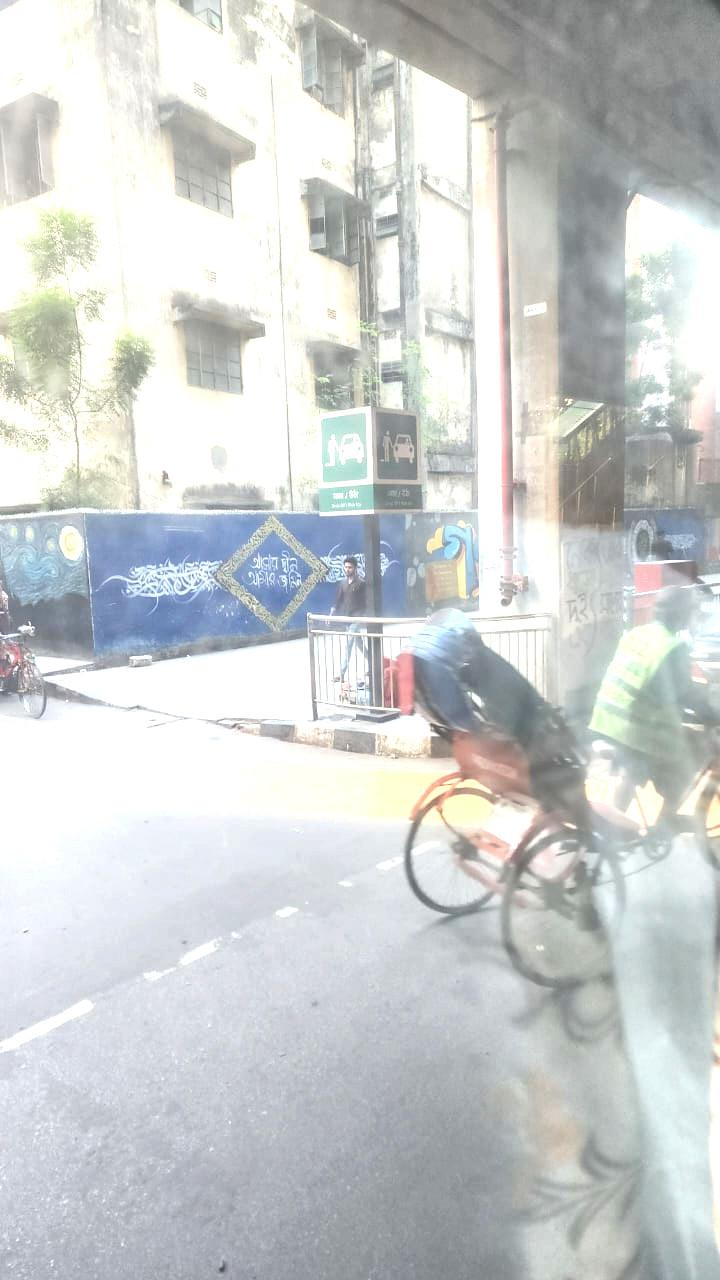Metro Dorp Up Pick up: (300, 388, 432, 530)
